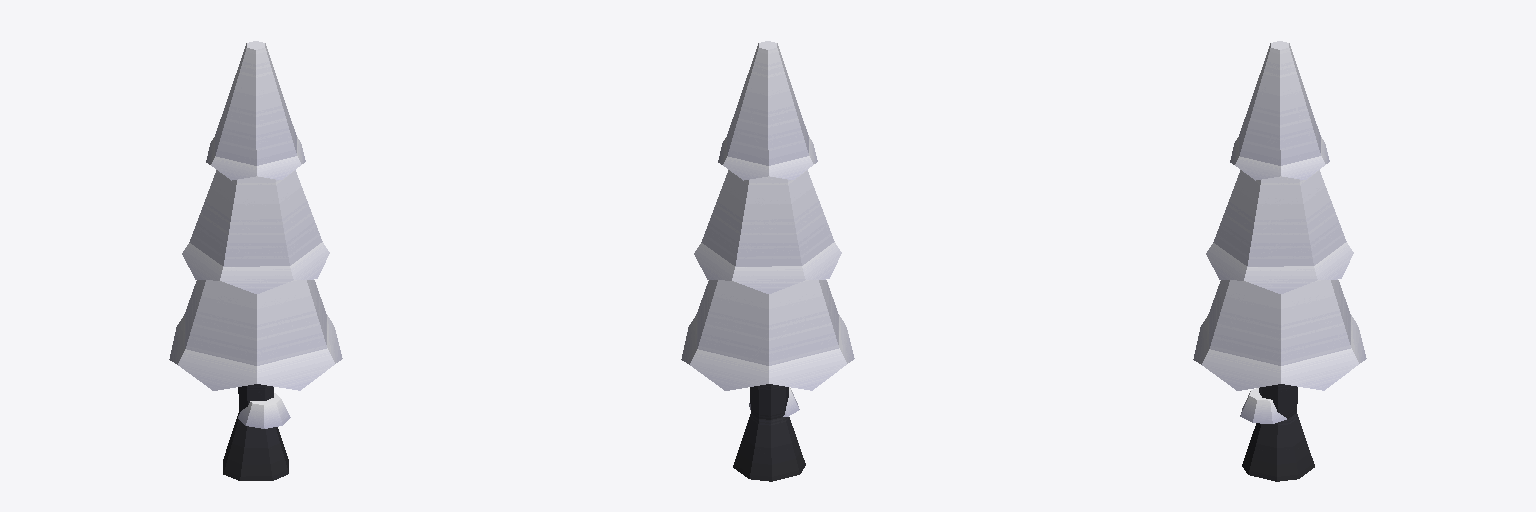
The picture shows the model from 3 angles: view 1: azimuth 30°, elevation 25°; view 2: azimuth 150°, elevation 25°; view 3: azimuth 270°, elevation 25°; orthographic projection.
Parts seen in each view (by area): view 1: tree.042; view 2: tree.042; view 3: tree.042.
Boxes of the visible parts, box(x1,y1,x2,y2) form: tree.042: box(169, 41, 342, 480); tree.042: box(681, 41, 854, 481); tree.042: box(1193, 41, 1366, 481).
Bounding box in the file's own units: 1.36 × 3.47 × 1.3.
1 materials, 1 textured.